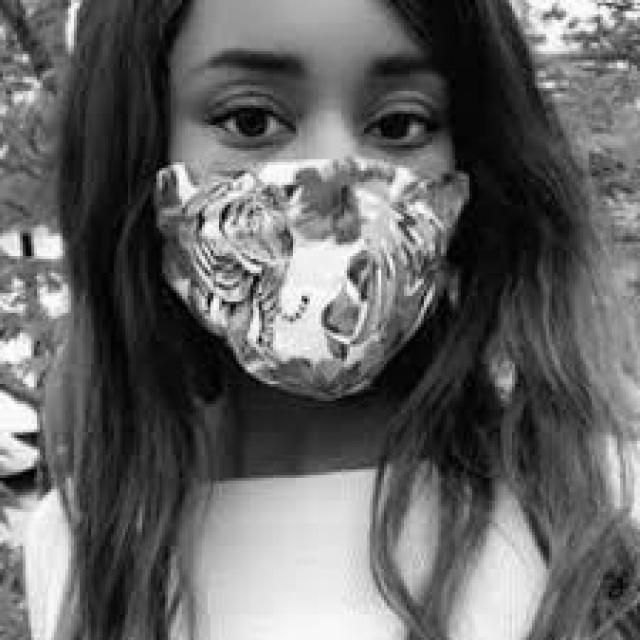without_mask: (148, 154, 472, 404)
